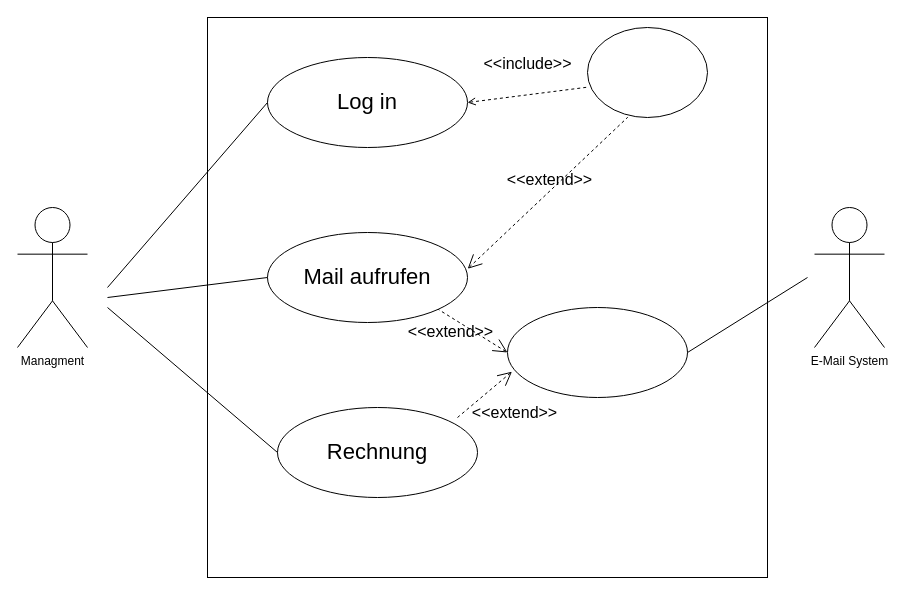
Some shapes in this 905 by 595 pixel diagram are drawn without their labels. Each missing label, with the centre of its shape:
"Authentifizierung" belongs at (x=647, y=72).
"Daten" belongs at (x=597, y=352).
